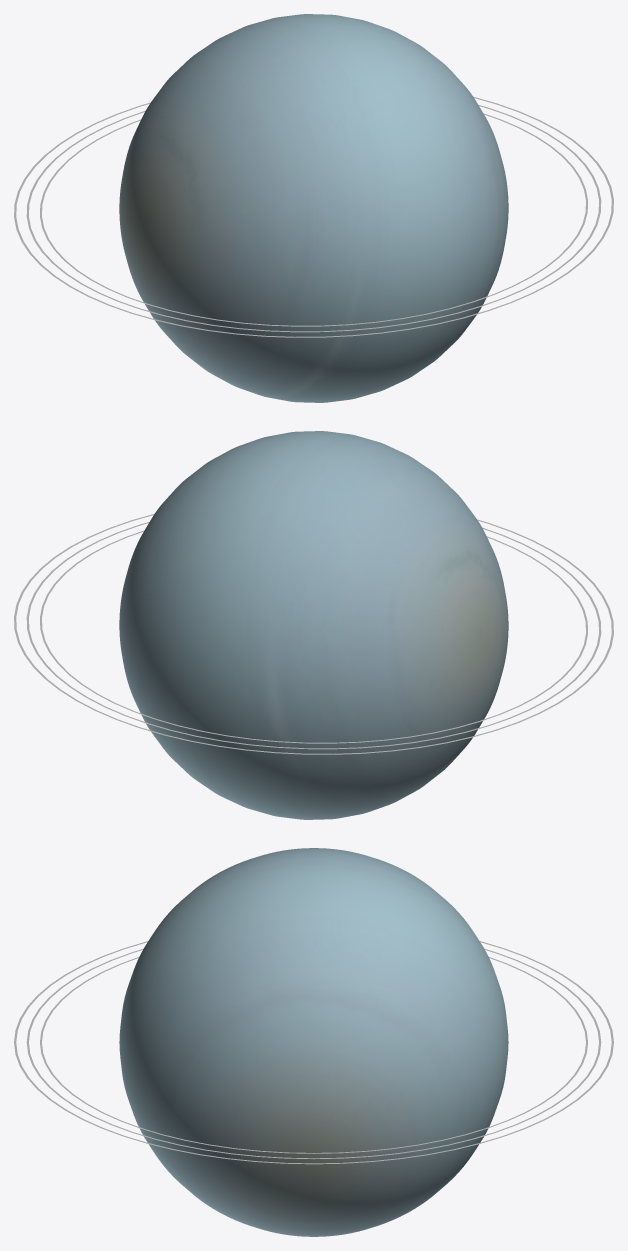
Rendered from Uranus.glb.
The picture shows the model from 3 angles, top to bottom: view 1: azimuth 30°, elevation 25°; view 2: azimuth 150°, elevation 25°; view 3: azimuth 270°, elevation 25°; orthographic projection.
Parts seen in each view (by area): view 1: Sphere_Material.002_0, Circle_ring_0, Circle.001_ring_0, Circle.002_ring_0; view 2: Sphere_Material.002_0, Circle_ring_0, Circle.001_ring_0, Circle.002_ring_0; view 3: Sphere_Material.002_0, Circle_ring_0, Circle.001_ring_0, Circle.002_ring_0.
Boxes of the visible parts, left/top/right/bottom form: Sphere_Material.002_0: left=119, top=14, right=508, bottom=402; Circle_ring_0: left=14, top=96, right=613, bottom=337; Circle.001_ring_0: left=26, top=105, right=601, bottom=332; Circle.002_ring_0: left=40, top=113, right=587, bottom=326; Sphere_Material.002_0: left=119, top=431, right=508, bottom=819; Circle_ring_0: left=14, top=513, right=613, bottom=754; Circle.001_ring_0: left=26, top=522, right=601, bottom=749; Circle.002_ring_0: left=40, top=530, right=587, bottom=743; Sphere_Material.002_0: left=119, top=848, right=508, bottom=1236; Circle_ring_0: left=14, top=941, right=613, bottom=1164; Circle.001_ring_0: left=26, top=949, right=601, bottom=1159; Circle.002_ring_0: left=40, top=957, right=587, bottom=1153.
Size of the model in its own units: 308 by 200 by 308.
Materials: 2 (1 with a texture image).
